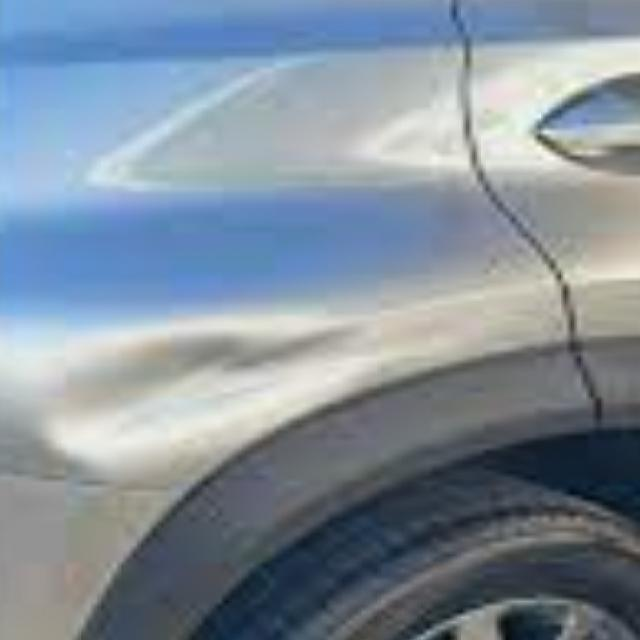dents: (41, 324, 357, 468)
